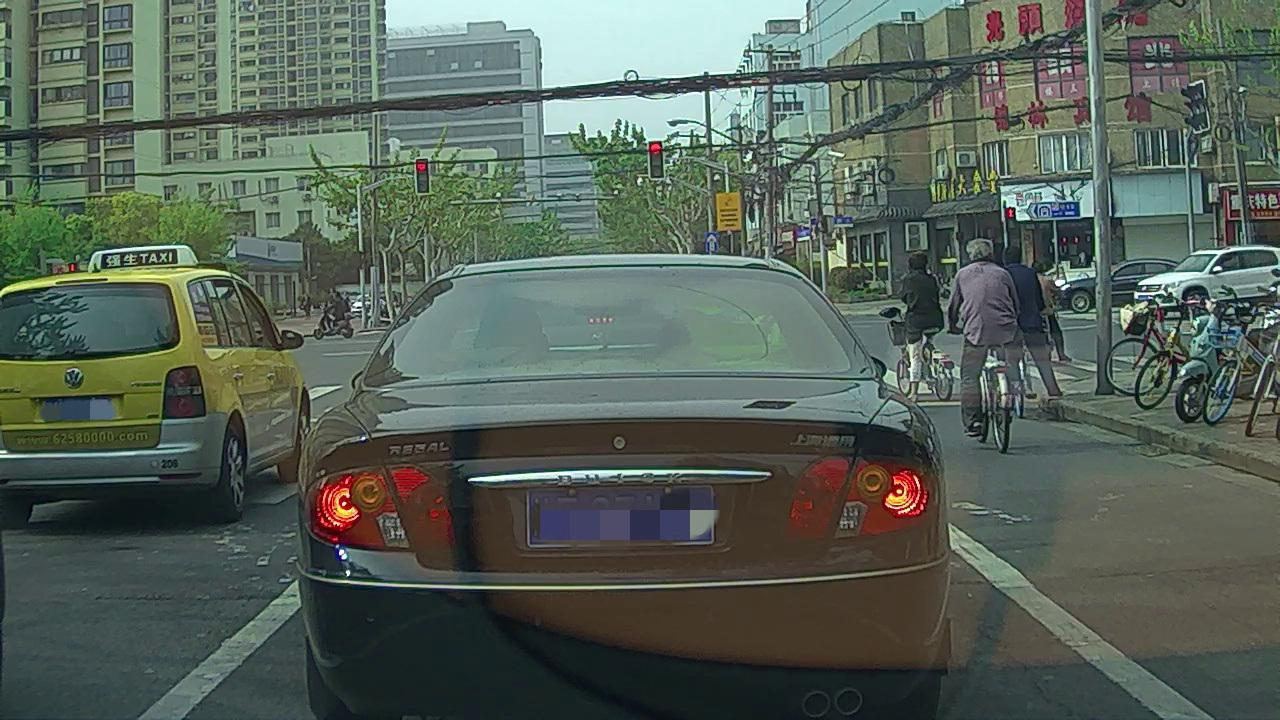traffic_light: (649, 142, 665, 178), (416, 160, 430, 194)
